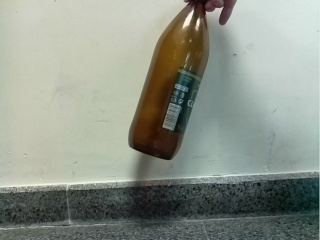pote cristal: (128, 1, 210, 160)
